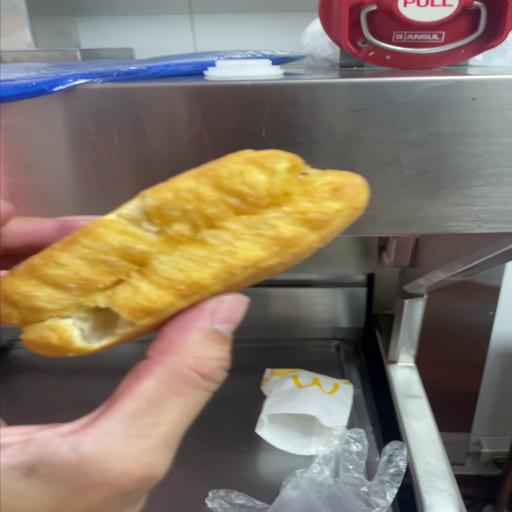brand_golden_defect: (0, 150, 369, 356)
